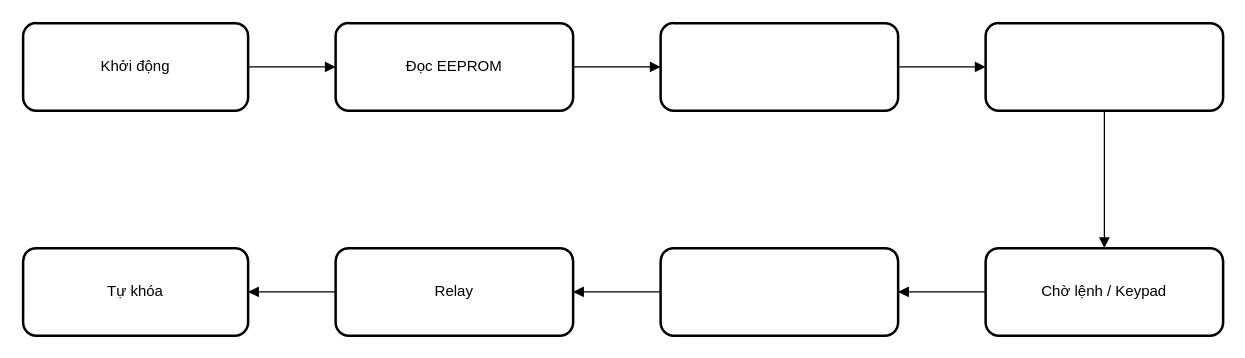
Image size: 1245x358. Some labels were removed from this diagram. The centre of each missing label's shape, as x and y in pixels:
"Kết nối MQTT" goes at (1104,66).
"Kết nối Wi-Fi" goes at (779,66).
"OPEN / LOCK" goes at (779,291).
